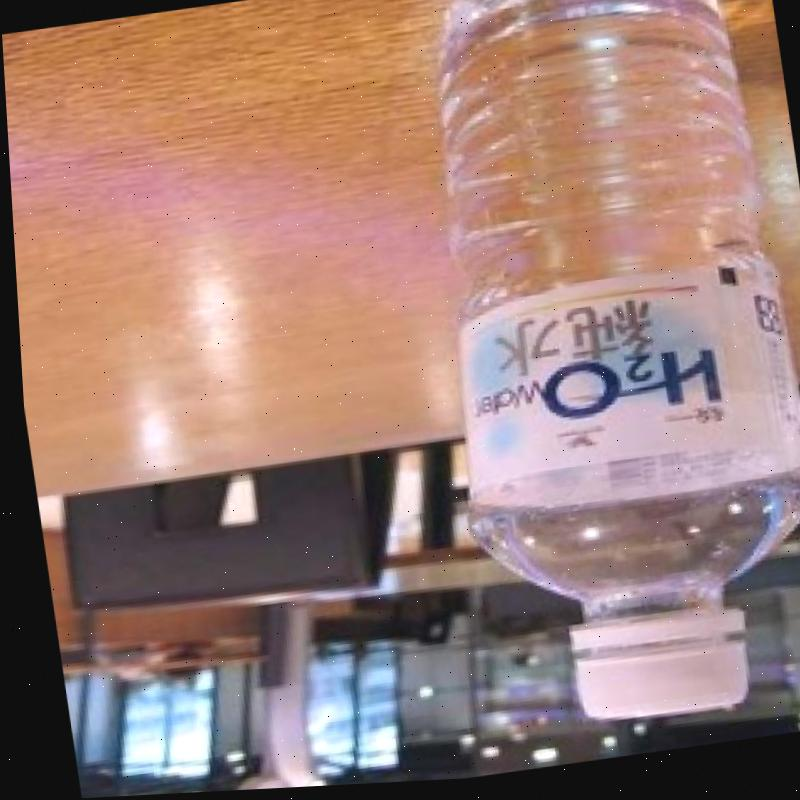botella: (385, 0, 800, 749)
